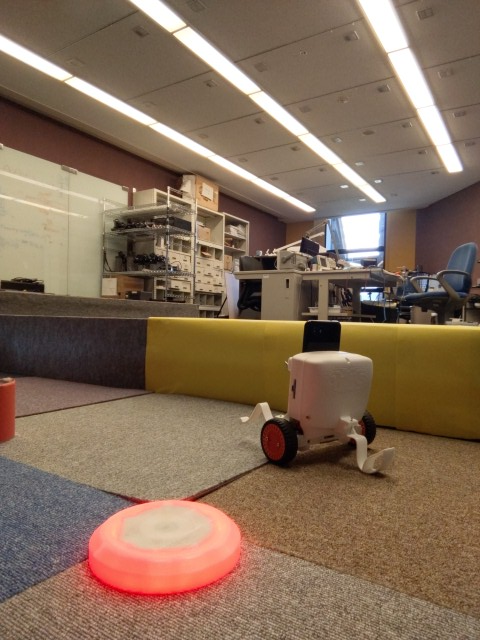bl: (238, 322, 399, 476)
r: (87, 490, 246, 595)
